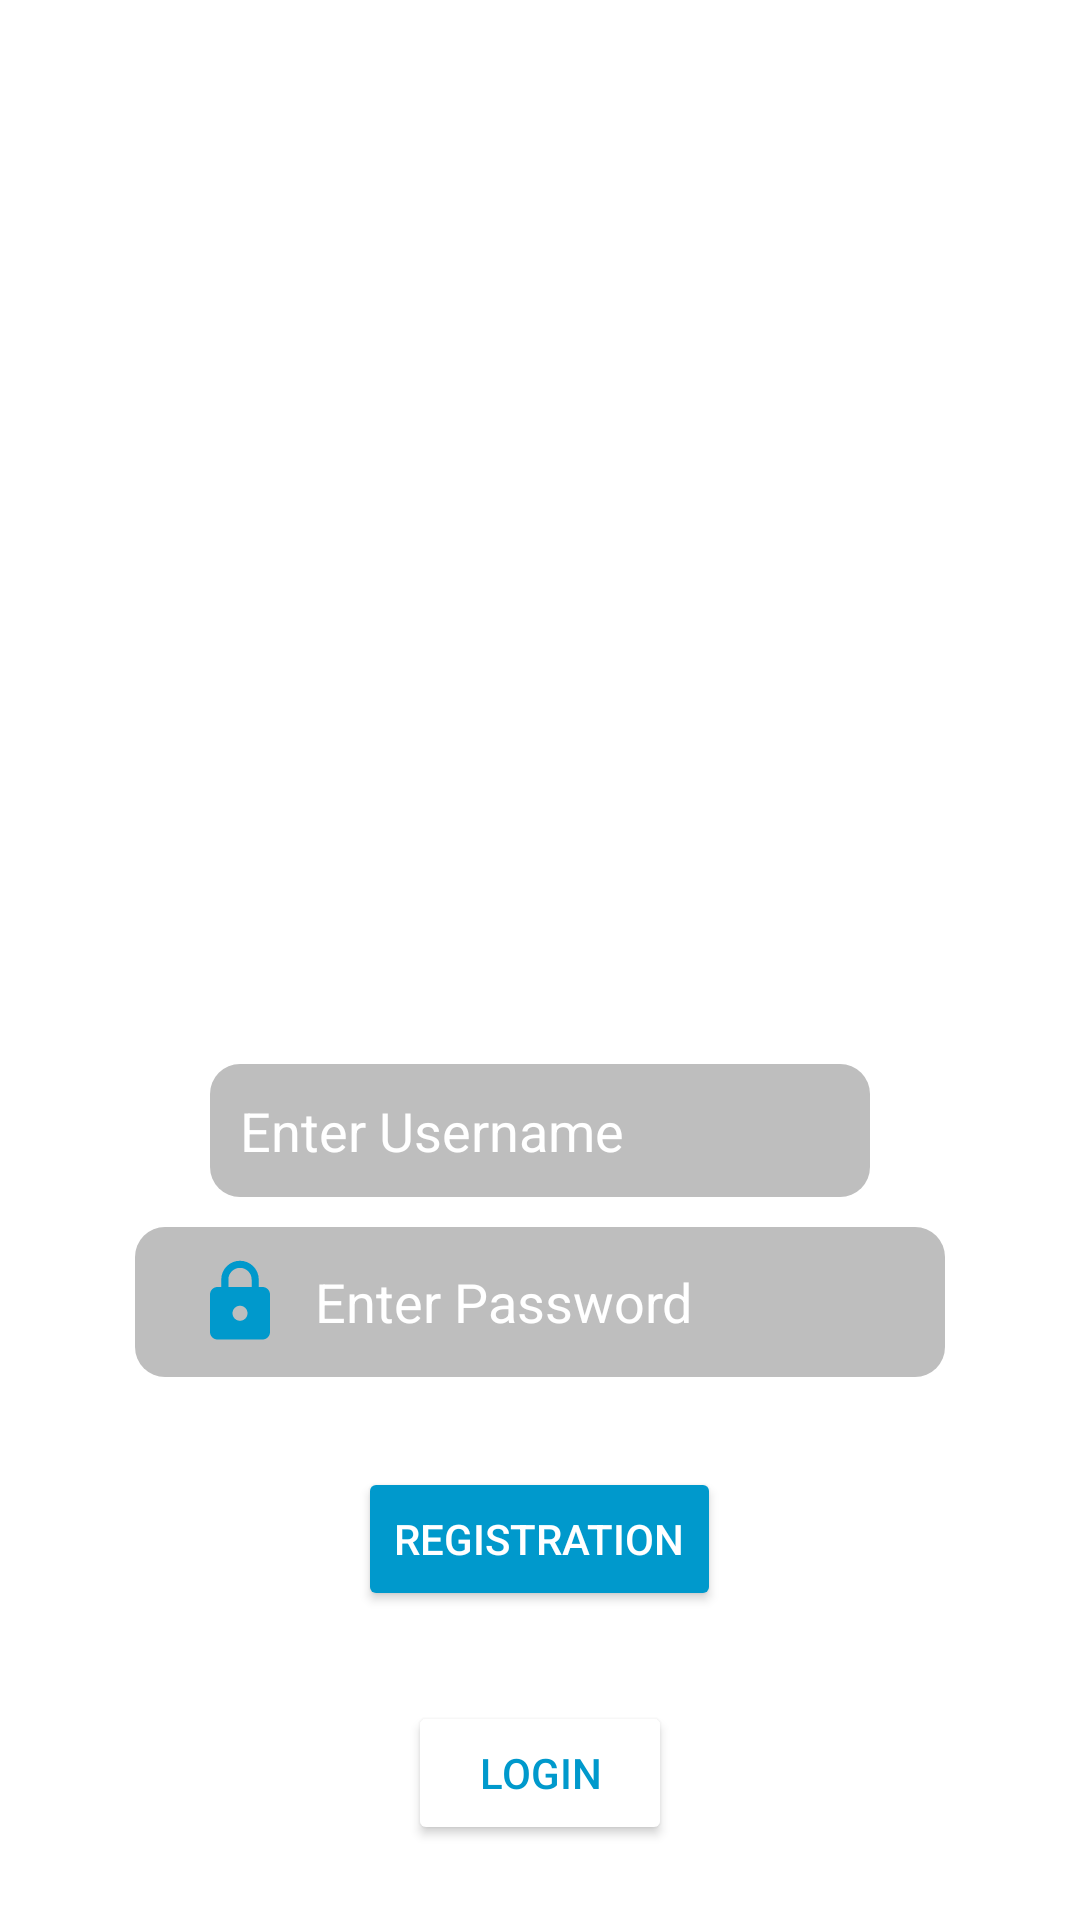

Icons on this 1080px x 1920px Android screen, each with the point to tap as point (x, y):
lock: point (240, 1300)
